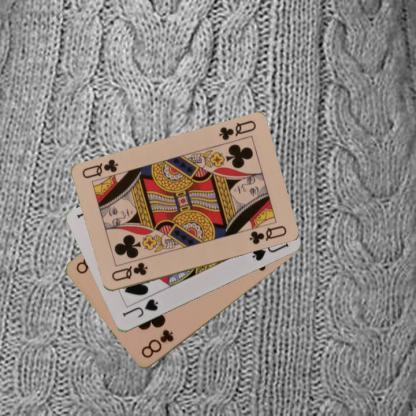8c: (138, 327, 176, 360)
Js: (119, 296, 160, 319)
Qc: (216, 118, 258, 142), (108, 260, 148, 283)
